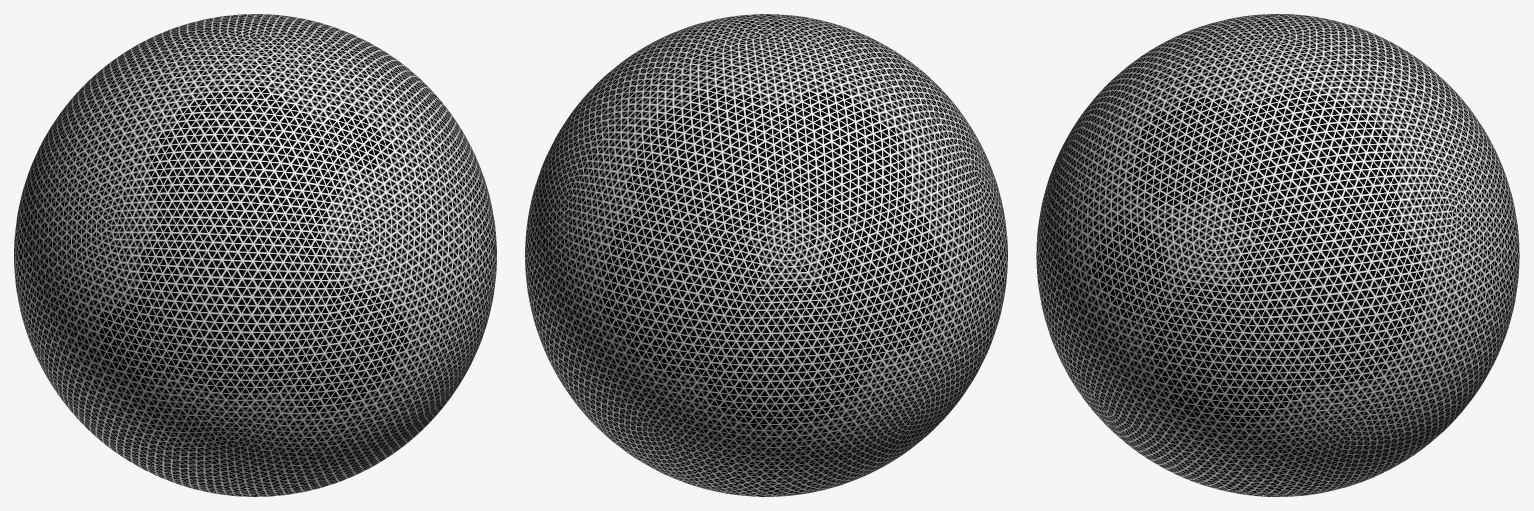
File: hexa.gltf
3 renders of one model, left to right at view 1: azimuth 30°, elevation 25°; view 2: azimuth 150°, elevation 25°; view 3: azimuth 270°, elevation 25°, orthographic.
Visible parts, largest first — view 1: GD_mesh; view 2: GD_mesh; view 3: GD_mesh.
Boxes of the visible parts, bbox=[...] form: GD_mesh: bbox=[14, 14, 496, 496]; GD_mesh: bbox=[525, 14, 1007, 496]; GD_mesh: bbox=[1036, 14, 1519, 496].
Size of the model in its own units: 2 by 2 by 2.
1 material, 1 textured.
